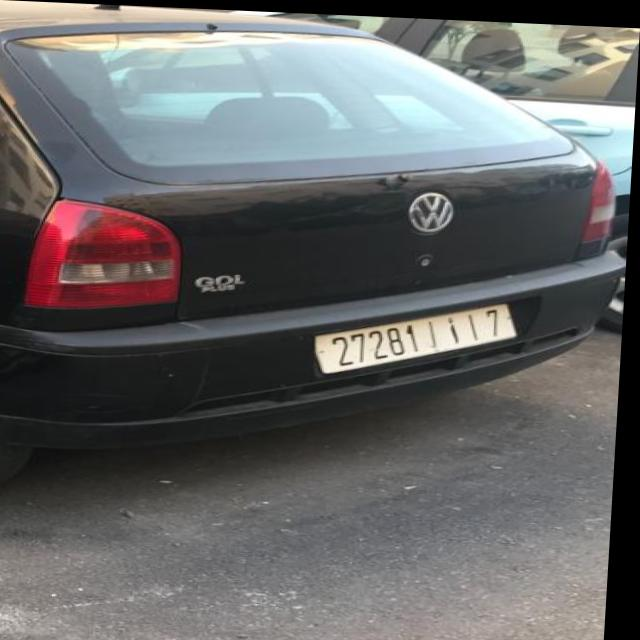License-Plate: (318, 299, 521, 369)
